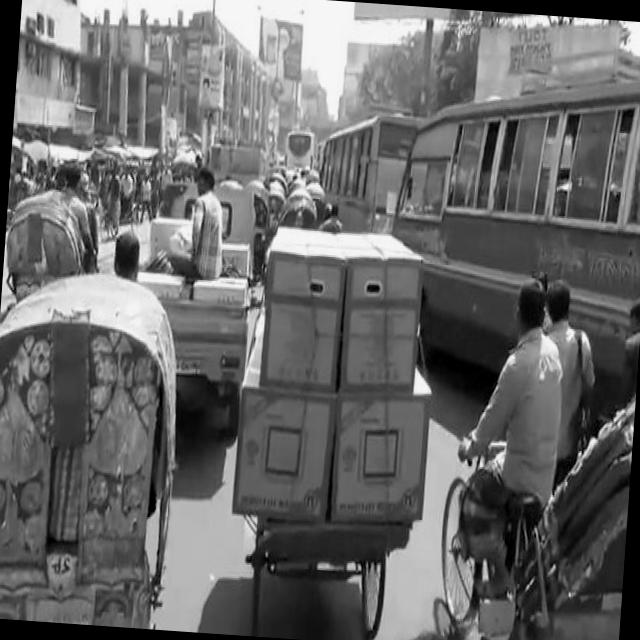bus: (370, 41, 640, 413), (312, 90, 426, 248), (286, 126, 318, 176)
motorcycle: (431, 276, 640, 640), (0, 261, 193, 623), (4, 164, 103, 300), (99, 157, 147, 247), (236, 176, 272, 266), (276, 180, 322, 238), (266, 176, 289, 221)
truck: (102, 160, 268, 442)
